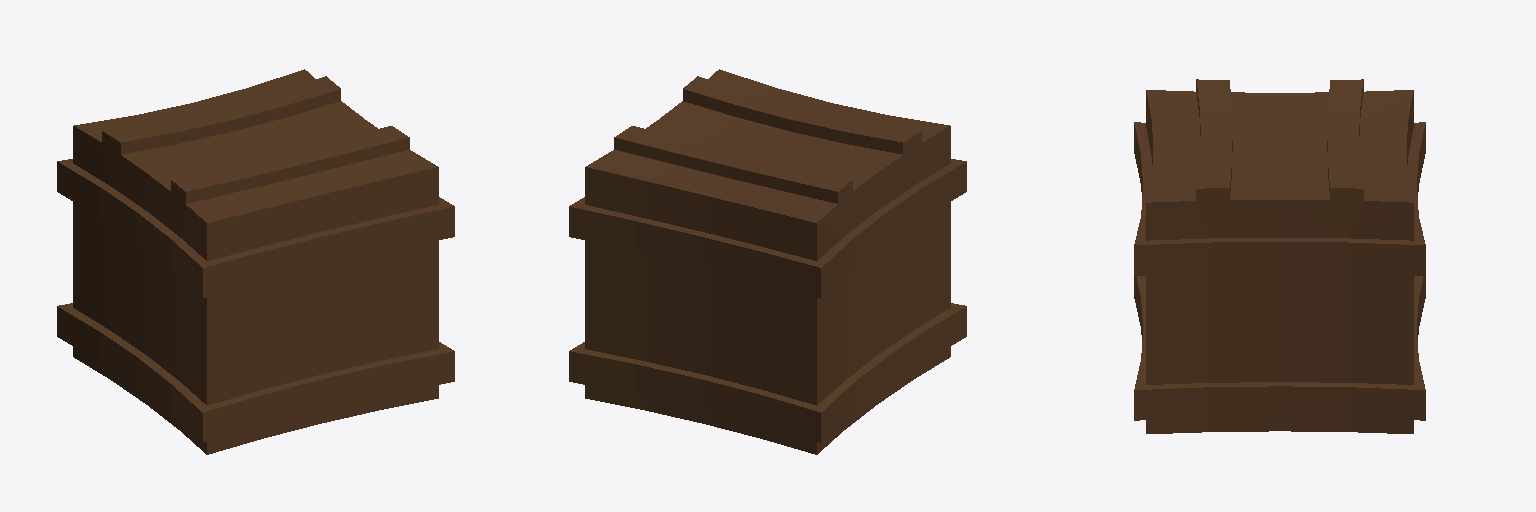
3 views of the same model, side by side, from view 1: azimuth 30°, elevation 25°; view 2: azimuth 150°, elevation 25°; view 3: azimuth 270°, elevation 25° (orthographic).
Parts seen in each view (by area): view 1: WoodenCrate_Mesh; view 2: WoodenCrate_Mesh; view 3: WoodenCrate_Mesh.
Boxes of the visible parts, x1,y1,x2,y2 form: WoodenCrate_Mesh: [57, 69, 454, 454]; WoodenCrate_Mesh: [569, 69, 966, 454]; WoodenCrate_Mesh: [1134, 79, 1425, 433].
Size of the model in its own units: 0.4325 by 0.3991 by 0.4325.
Materials: 1 (1 with a texture image).